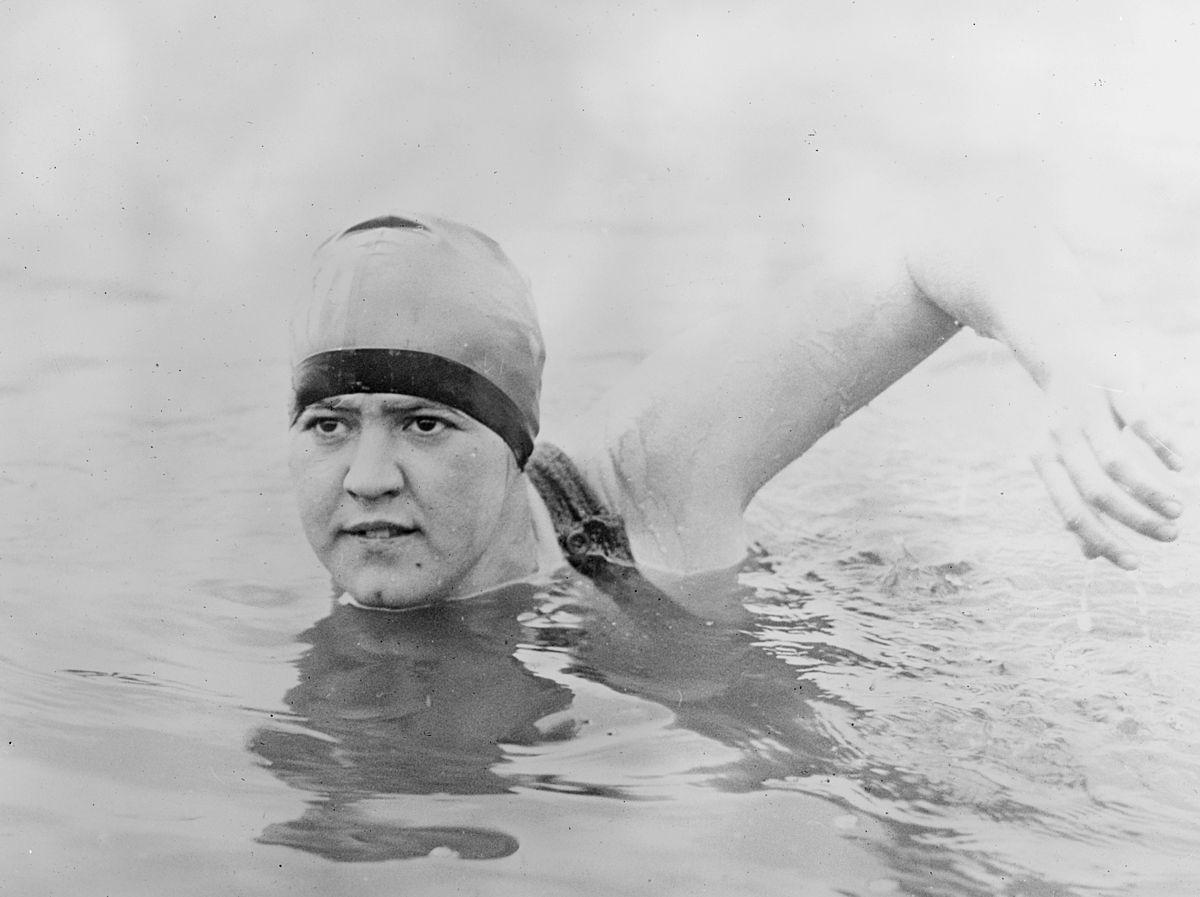swimmer: (270, 184, 1189, 642)
